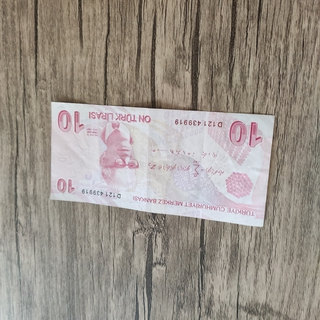10TLBack: (49, 100, 276, 228)
